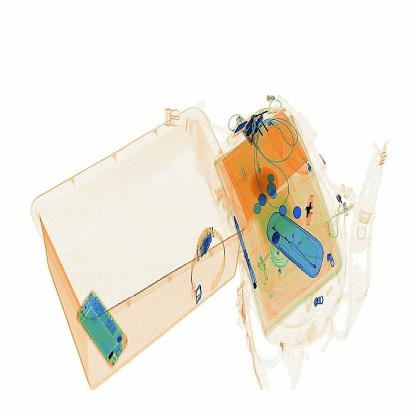gun: (300, 187, 325, 242)
